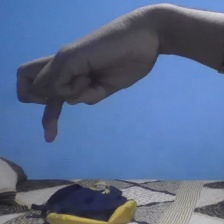P: (15, 2, 166, 147)
